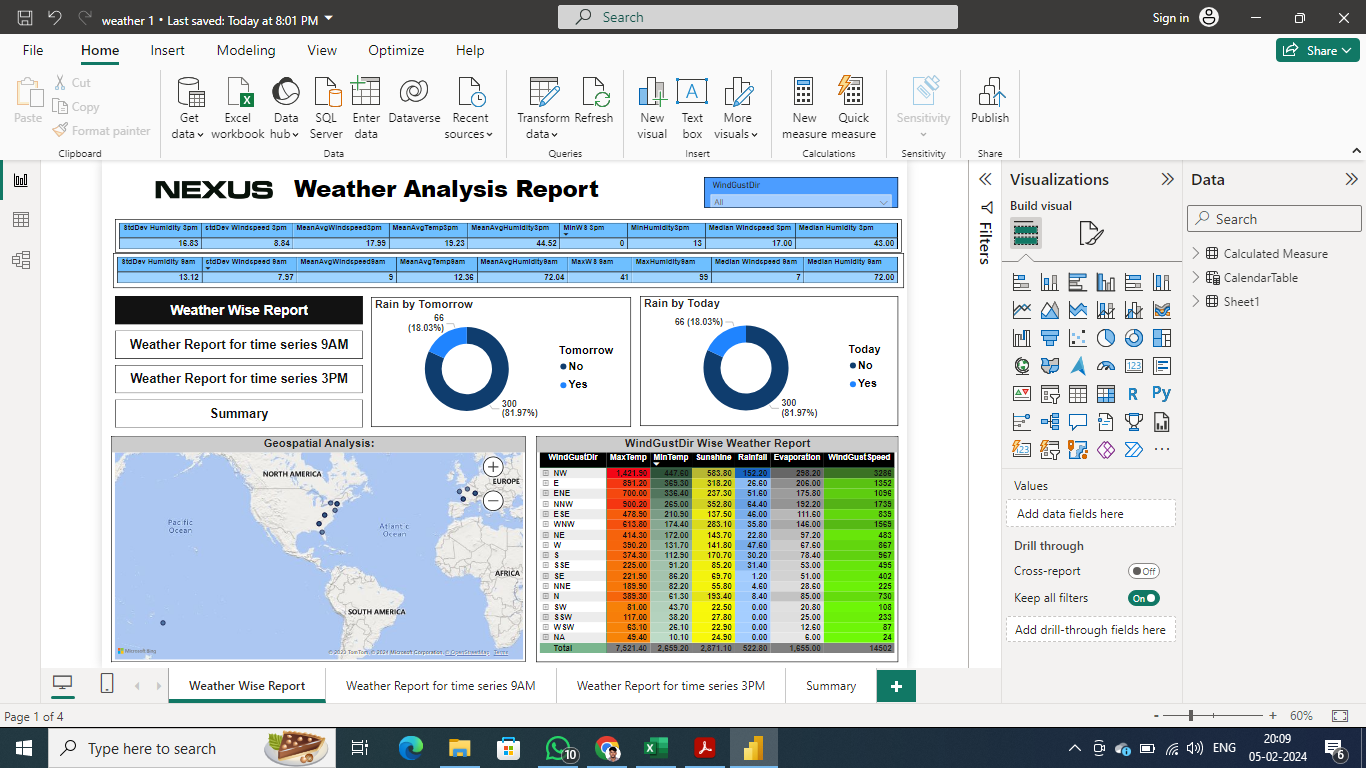

What the dashboard file says about the page in this screenshot:
{"tool":"powerbi","page":{"name":"Weather Wise Report","canvas":[1330,840],"ordinal":0},"visuals":[{"type":"tableEx","fields":{"Values":["Measure.StdDev Humidity 3pm","Measure.stdDev Windspeed 3pm","Measure.MeanAvgWindspeed3pm","Measure.MeanAvgTemp3pm","Measure.MeanAvgHumidity3pm","Measure.MinWS 3pm","Measure.MinHumidity3pm","Measure.Median Windspeed 3pm","Measure.Median Humidity 3pm"]},"box":[21.5,97.6,1301.3,56.2],"z":0},{"type":"tableEx","fields":{"Values":["Measure.StdDev Humidity 9am","Measure.stdDev Windspeed 9am","Measure.MeanAvgWindspeed9am","Measure.MeanAvgTemp9am","Measure.MeanAvgHumidity9am","Measure.MaxWS 9am","Measure.MaxHumidity9am","Measure.Median Windspeed 9am","Measure.Median Humidity 9am"]},"box":[18.2,153.8,1308,57.9],"z":1000},{"type":"donutChart","fields":{"Y":["Sheet1.INDEX"],"Category":["Sheet1.RainToday"]},"box":[889.6,224.9,426.6,215],"z":2000},{"type":"pivotTable","title":"WindGustDir Wise Weather Report","fields":{"Rows":["Sheet1.WindGustDir","CalendarTable.DateColumn"],"Values":["Sheet1.MaxTemp","Sheet1.MinTemp","Sheet1.Sunshine","Sheet1.Rainfall","Sheet1.Evaporation","Sheet1.WindGustSpeed"]},"box":[717.6,456.4,598.6,373.7],"z":3000},{"type":"textbox","box":[0,511,373,150],"z":4000},{"type":"map","title":"Geospatial Analysis:","fields":{"Category":["Sheet1.Degree"]},"box":[14.9,456.4,686.2,373.7],"z":5000},{"type":"pageNavigator","box":[21.5,224.9,410.1,218.3],"z":6000},{"type":"slicer","fields":{"Values":["Sheet1.WindGustDir"]},"box":[995.4,28.1,320.8,51.3],"z":7000},{"type":"textbox","box":[17,830,685,150],"z":8000},{"type":"donutChart","fields":{"Y":["Sheet1.INDEX"],"Category":["Sheet1.RainTomorrow"]},"box":[444.8,226.5,429.9,215],"z":9000},{"type":"textbox","box":[312.5,14.9,525.8,67.8],"z":10000},{"type":"image","box":[57.9,0,254.6,97.6],"z":11000}]}

Visuals, with their boxes on the page's 1330x840 design canvas (x1, y1, x2, y2). These are canvas units, not pixel positions in the 1366x768 screenshot, which may show the page scaled, cropped or inside an application window:
tableEx - Measure.StdDev Humidity 3pm x Measure.stdDev Windspeed 3pm: (22, 98, 1323, 154)
tableEx - Measure.StdDev Humidity 9am x Measure.stdDev Windspeed 9am: (18, 154, 1326, 212)
donutChart - Sheet1.INDEX x Sheet1.RainToday: (890, 225, 1316, 440)
"WindGustDir Wise Weather Report" pivotTable: (718, 456, 1316, 830)
textbox: (0, 511, 373, 661)
"Geospatial Analysis:" map: (15, 456, 701, 830)
pageNavigator: (22, 225, 432, 443)
slicer - Sheet1.WindGustDir: (995, 28, 1316, 79)
textbox: (17, 830, 702, 980)
donutChart - Sheet1.INDEX x Sheet1.RainTomorrow: (445, 226, 875, 442)
textbox: (312, 15, 838, 83)
image: (58, 0, 312, 98)
